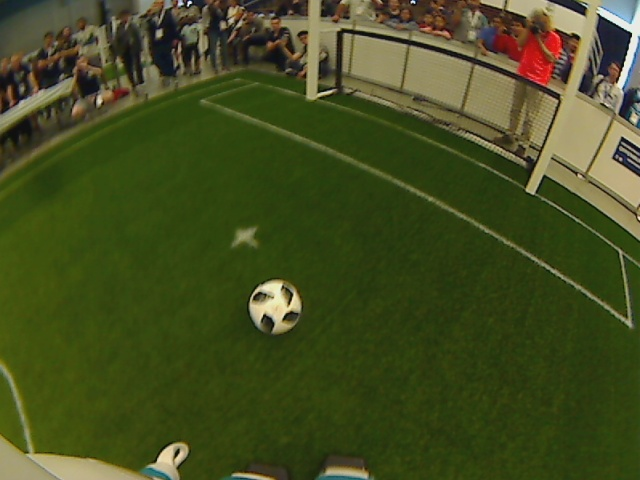ball: (245, 276, 304, 336)
